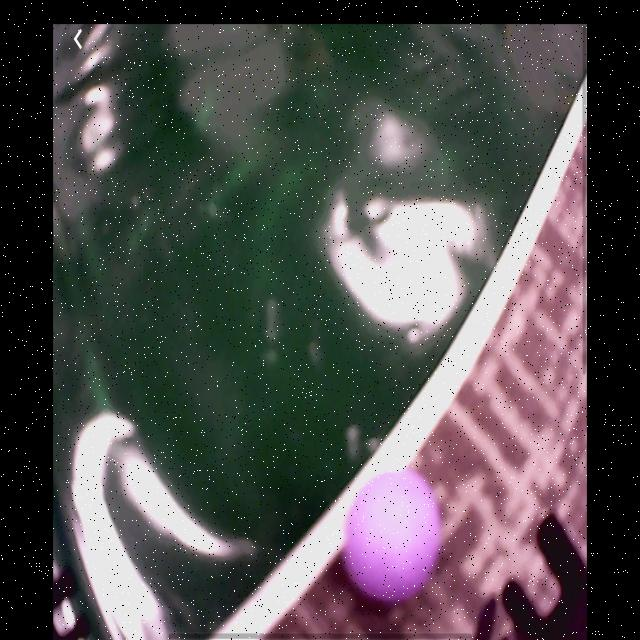ball: (348, 472, 442, 605)
